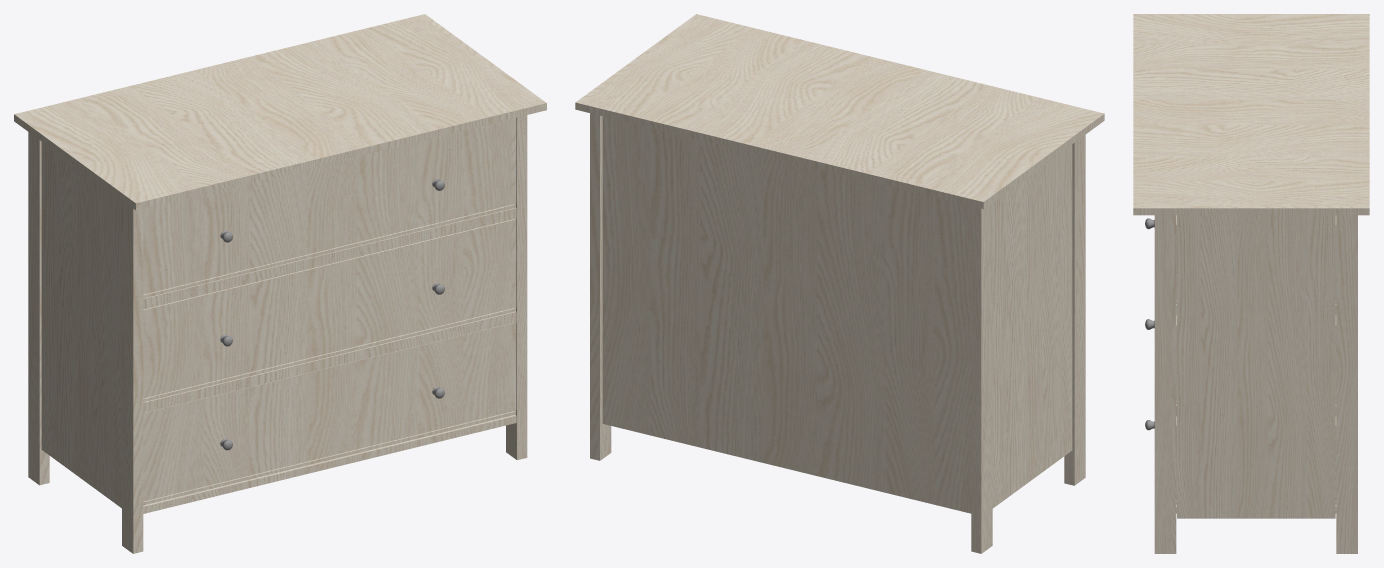
The picture shows the model from 3 angles, left to right: view 1: azimuth 30°, elevation 25°; view 2: azimuth 150°, elevation 25°; view 3: azimuth 270°, elevation 25°; orthographic projection. The views are drawn at different scales.
Parts seen in each view (by area): view 1: IKEA-Hemnes_Chest_of_3_drawers-3D.001; view 2: IKEA-Hemnes_Chest_of_3_drawers-3D.001; view 3: IKEA-Hemnes_Chest_of_3_drawers-3D.001.
Part boxes in pixels (x1,y1,x2,y2): IKEA-Hemnes_Chest_of_3_drawers-3D.001: (14, 14, 546, 553); IKEA-Hemnes_Chest_of_3_drawers-3D.001: (575, 14, 1104, 553); IKEA-Hemnes_Chest_of_3_drawers-3D.001: (1133, 14, 1369, 553).
Bounding box in the file's own units: 1.12 × 0.9376 × 0.574.
Materials: 2 (1 with a texture image).
